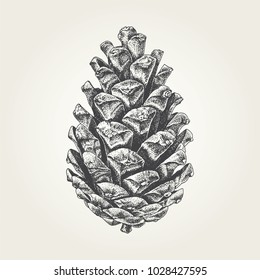Pc: (71, 22, 192, 231)
